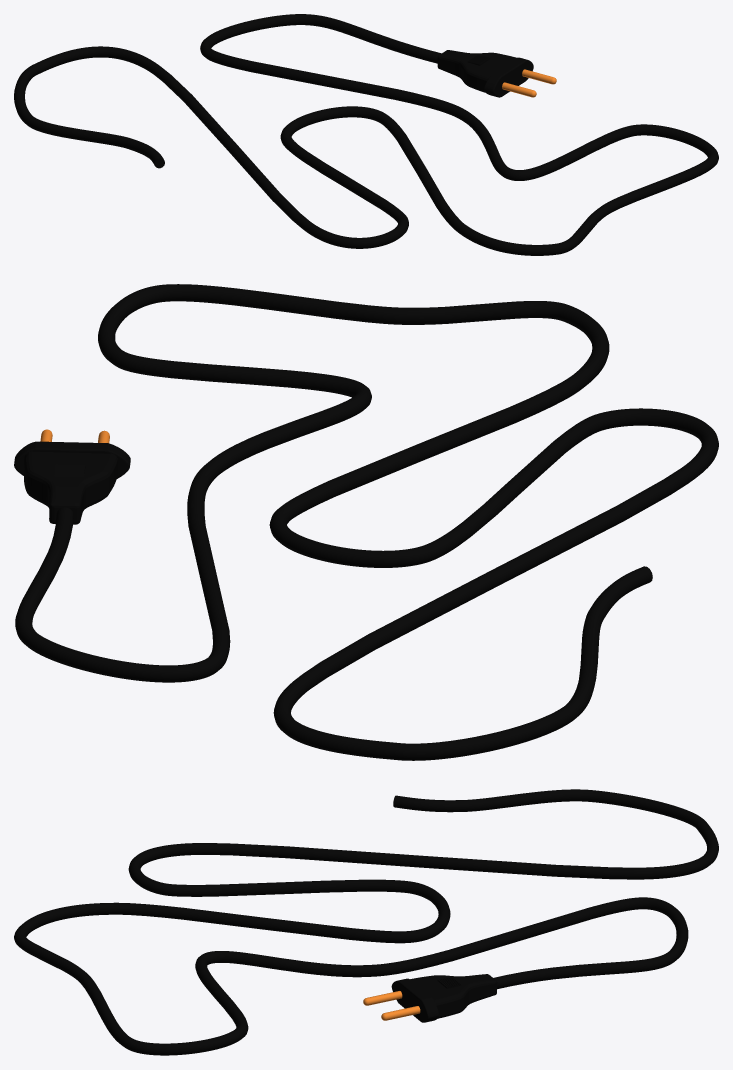
File: vilka.FBX
3 views of the same model, one above another, from view 1: azimuth 30°, elevation 25°; view 2: azimuth 150°, elevation 25°; view 3: azimuth 270°, elevation 25° (orthographic). The views are drawn at different scales.
Parts seen in each view (by area): view 1: Line143, Line145, Line144; view 2: Line143, Line145, Line144; view 3: Line143, Line145, Line144.
Boxes of the visible parts, x1,y1,x2,y2 form: Line143: (14,14,718,255); Line145: (437,50,516,92); Line144: (484,57,533,97); Line143: (15,284,718,760); Line145: (24,451,117,524); Line144: (14,441,130,478); Line143: (14,789,718,1055); Line145: (410,974,497,1018); Line144: (391,978,438,1022).
Bounding box in the file's own units: 282 × 13.71 × 325.
